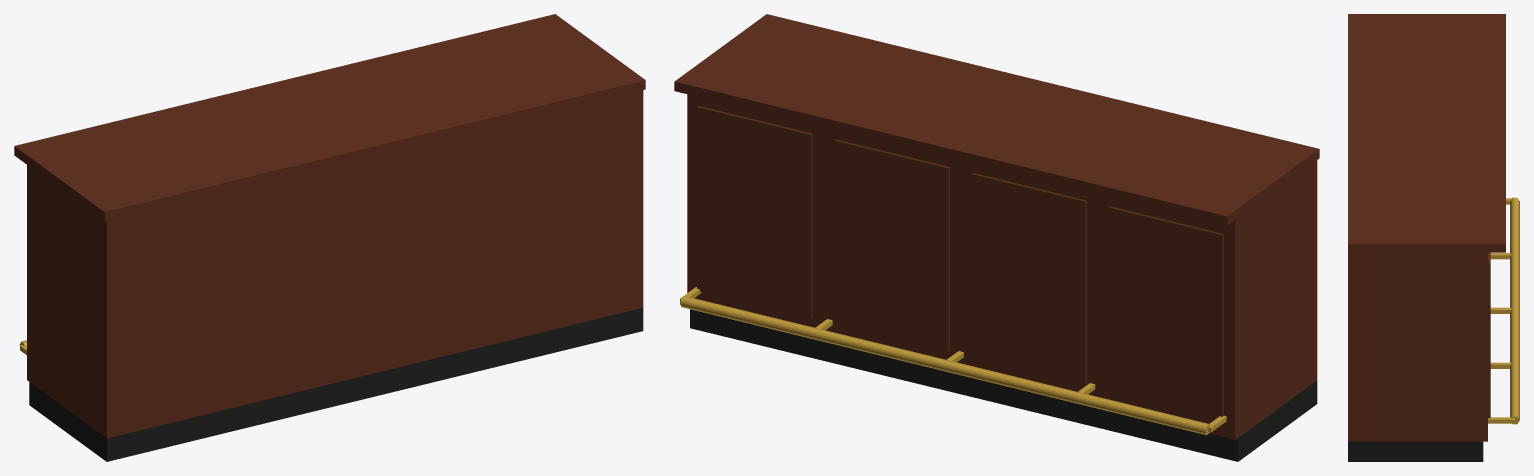
File: parametric-bar-1st.glb
The picture shows the model from 3 angles, left to right: view 1: azimuth 30°, elevation 25°; view 2: azimuth 150°, elevation 25°; view 3: azimuth 270°, elevation 25°; orthographic projection. The views are drawn at different scales.
Visible parts, largest first — view 1: parametric-bar-1st; view 2: parametric-bar-1st; view 3: parametric-bar-1st.
Part boxes in pixels (bbox=[...]): parametric-bar-1st: bbox=[14, 14, 645, 461]; parametric-bar-1st: bbox=[674, 14, 1319, 461]; parametric-bar-1st: bbox=[1348, 14, 1519, 461].
Bounding box in the file's own units: 2.42 × 1.07 × 0.762.
